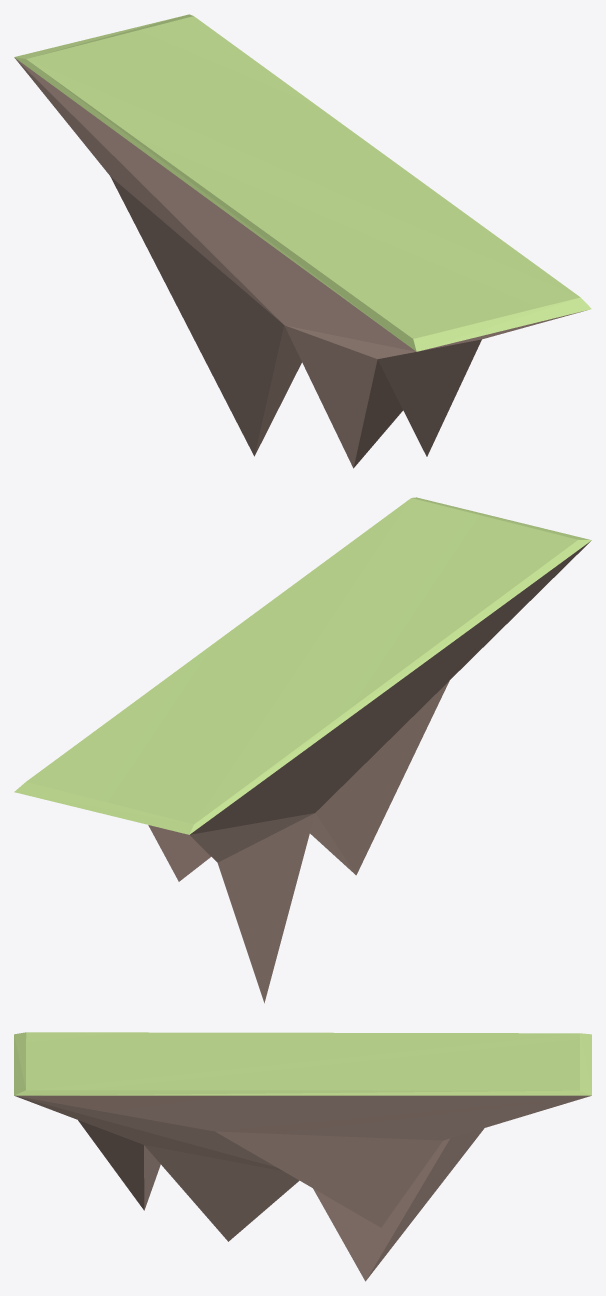
3 views of the same model, one above another, from view 1: azimuth 30°, elevation 25°; view 2: azimuth 150°, elevation 25°; view 3: azimuth 270°, elevation 25° (orthographic). The views are drawn at different scales.
Parts seen in each view (by area): view 1: Land; view 2: Land; view 3: Land.
Boxes of the visible parts, x1,y1,x2,y2 form: Land: (14,14,591,468); Land: (14,497,591,1003); Land: (14,1032,591,1281).
Size of the model in its own units: 109 by 185 by 435.
